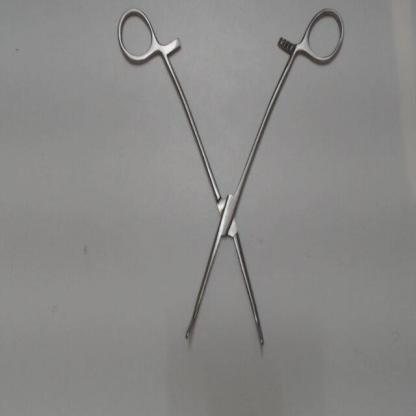Lahey Forceps: (109, 3, 345, 352)
